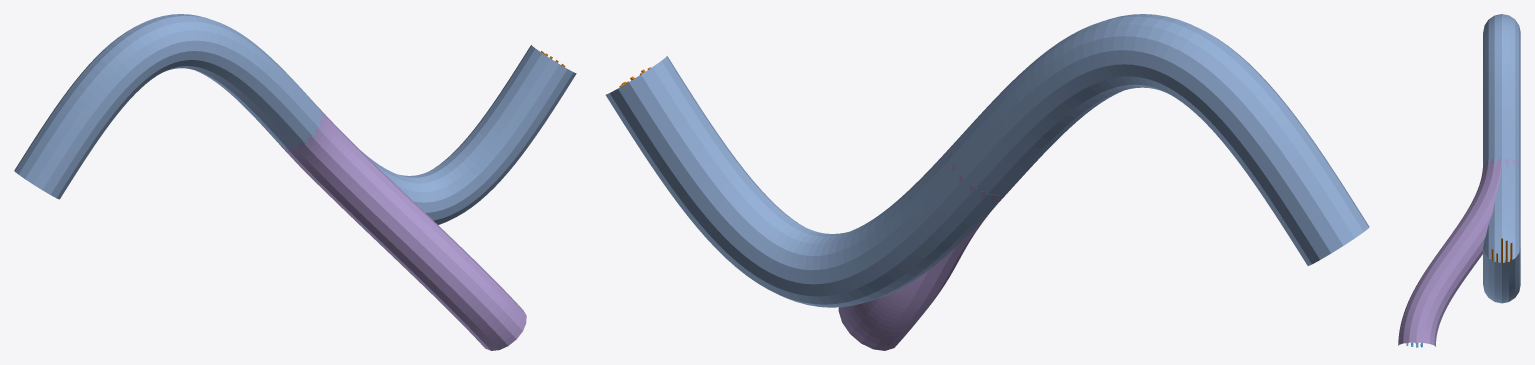
File: 5_curved_split_demo.glb
3 views of the same model, side by side, from view 1: azimuth 30°, elevation 25°; view 2: azimuth 150°, elevation 25°; view 3: azimuth 270°, elevation 25° (orthographic). The views are drawn at different scales.
Visible parts, largest first — view 1: world; view 2: world; view 3: world.
Boxes of the visible parts, left/top/right/bottom form: world: left=14, top=14, right=576, bottom=350; world: left=605, top=14, right=1369, bottom=350; world: left=1398, top=14, right=1520, bottom=347.
Size of the model in its own units: 236 by 142 by 64.99.
